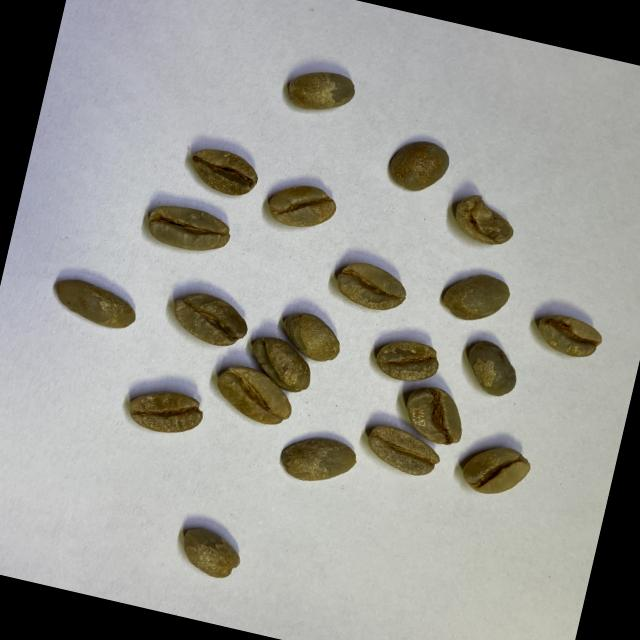bad: (398, 383, 470, 448), (442, 190, 518, 250), (529, 308, 606, 364)
good: (212, 362, 300, 430), (165, 287, 253, 351), (274, 428, 360, 492), (47, 274, 140, 332), (142, 200, 234, 258), (456, 436, 534, 504), (360, 420, 444, 482), (125, 382, 208, 441), (436, 264, 512, 328), (332, 256, 412, 316), (264, 176, 342, 237), (282, 61, 360, 120), (173, 522, 247, 584), (240, 335, 316, 395), (185, 142, 262, 200), (383, 134, 452, 197), (458, 336, 524, 400), (276, 310, 346, 366), (372, 332, 442, 387)
